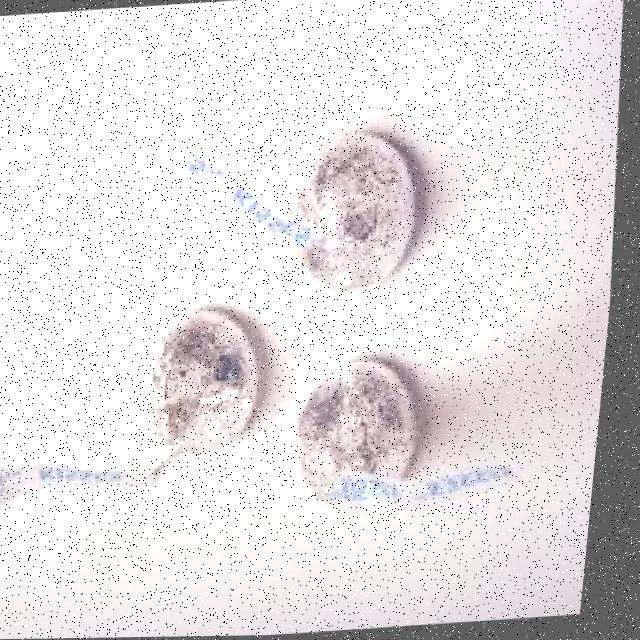kisses: (280, 350, 443, 514), (138, 301, 286, 465), (283, 134, 428, 292)
